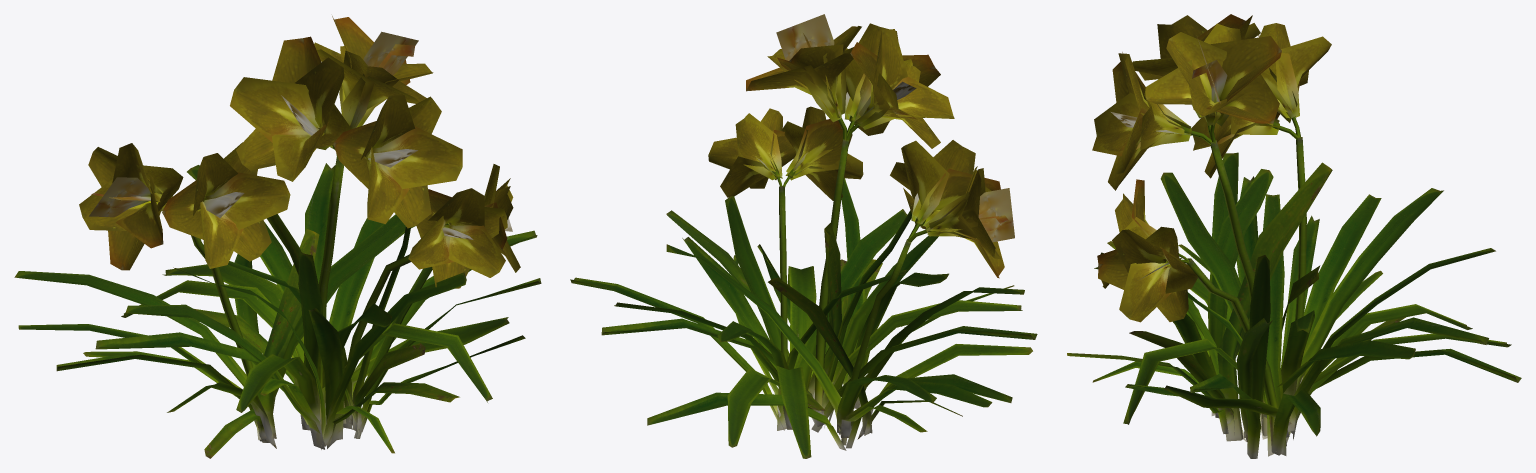
Rendered from Amaryllis_bush_short_yellowgreen.glb.
3 renders of one model, left to right at view 1: azimuth 30°, elevation 25°; view 2: azimuth 150°, elevation 25°; view 3: azimuth 270°, elevation 25°, orthographic. The views are drawn at different scales.
Visible parts, largest first — view 1: bush; view 2: bush; view 3: bush.
Part boxes in pixels (bbox=[...]): bush: bbox=[14, 16, 541, 458]; bush: bbox=[570, 14, 1037, 458]; bush: bbox=[1067, 14, 1521, 458].
Bounding box in the file's own units: 2.76 × 2.32 × 2.27.
Materials: 1 (1 with a texture image).
